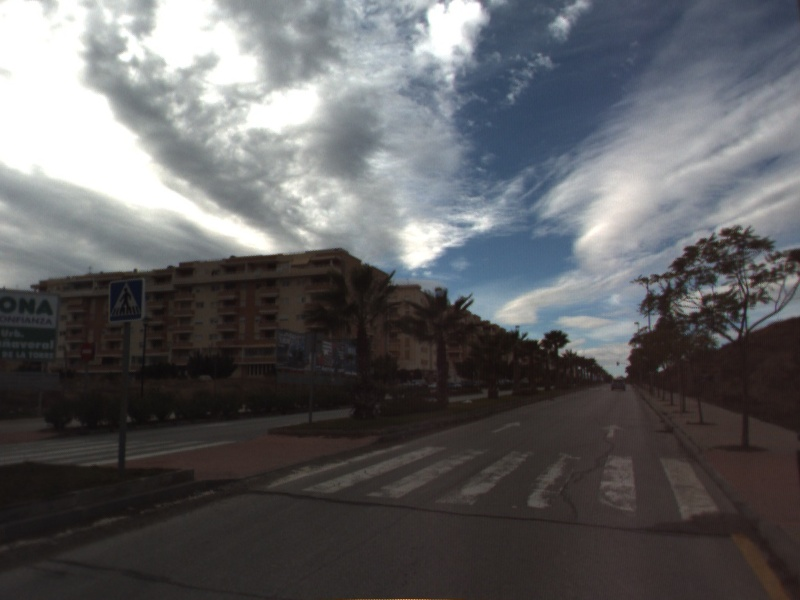STRAIGHT: (489, 419, 522, 435), (599, 421, 626, 440)
